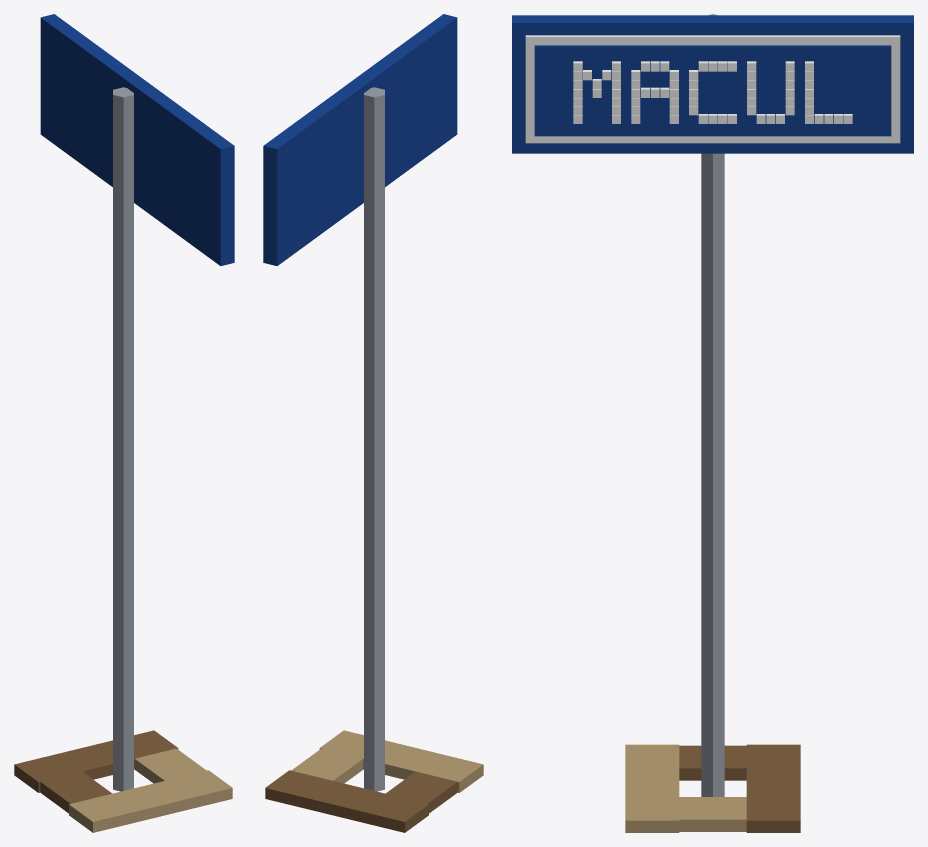
The model's file is letrero_comuna_macul.obj.
The picture shows the model from 3 angles, left to right: view 1: azimuth 30°, elevation 25°; view 2: azimuth 150°, elevation 25°; view 3: azimuth 270°, elevation 25°; orthographic projection. The views are drawn at different scales.
Visible parts, largest first — view 1: letrero_comuna_macul; view 2: letrero_comuna_macul; view 3: letrero_comuna_macul.
Part boxes in pixels (x1,y1,x2,y2): letrero_comuna_macul: [14, 14, 234, 832]; letrero_comuna_macul: [263, 14, 483, 832]; letrero_comuna_macul: [512, 14, 913, 832].
Bounding box in the file's own units: 0.8 × 3.84 × 1.79.
